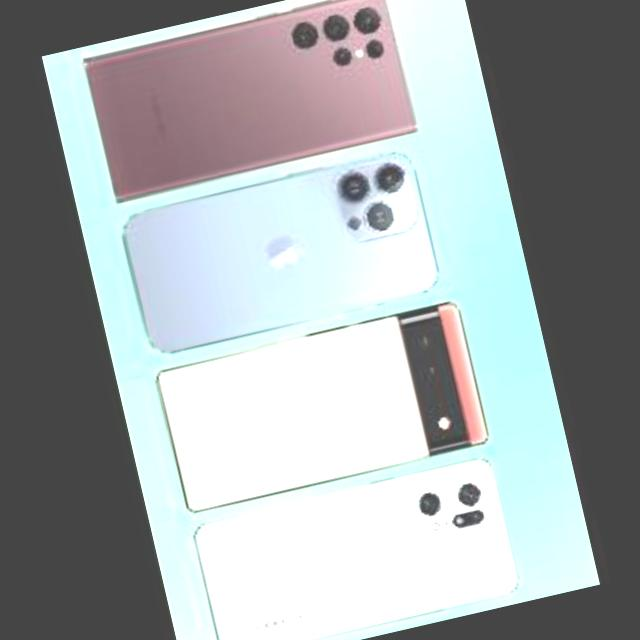lens_back: (334, 167, 374, 207), (448, 478, 484, 516), (371, 158, 406, 196), (362, 198, 398, 234), (348, 3, 384, 38), (412, 356, 449, 390), (286, 18, 321, 53), (406, 322, 440, 358), (318, 11, 352, 45), (412, 486, 446, 520)
phone: (154, 300, 490, 514), (114, 150, 441, 360), (80, 0, 414, 201), (191, 456, 523, 640)
